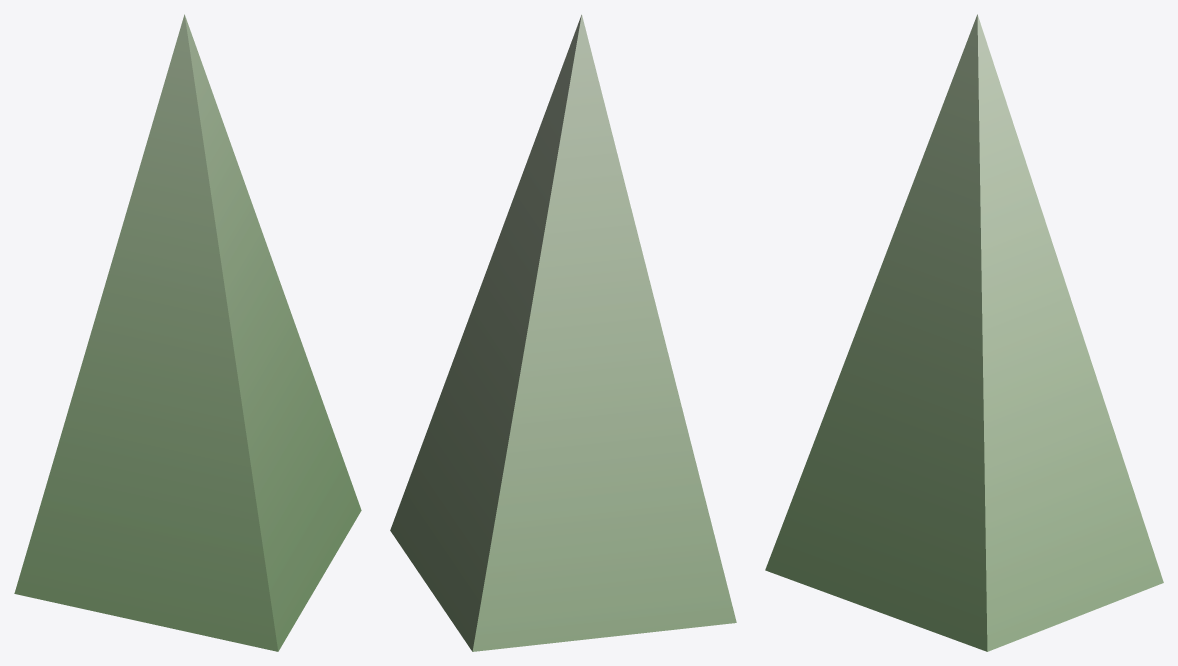
Rendered from Thorn Projectile.FBX.
The picture shows the model from 3 angles, left to right: view 1: azimuth 30°, elevation 25°; view 2: azimuth 150°, elevation 25°; view 3: azimuth 270°, elevation 25°; orthographic projection. The views are drawn at different scales.
Visible parts, largest first — view 1: Thorn Projectile; view 2: Thorn Projectile; view 3: Thorn Projectile.
Part boxes in pixels (x1,y1,x2,y2): Thorn Projectile: [14, 14, 361, 651]; Thorn Projectile: [390, 14, 736, 651]; Thorn Projectile: [765, 14, 1163, 651].
Bounding box in the file's own units: 25.45 × 25.46 × 39.59.
1 material, 1 textured.
